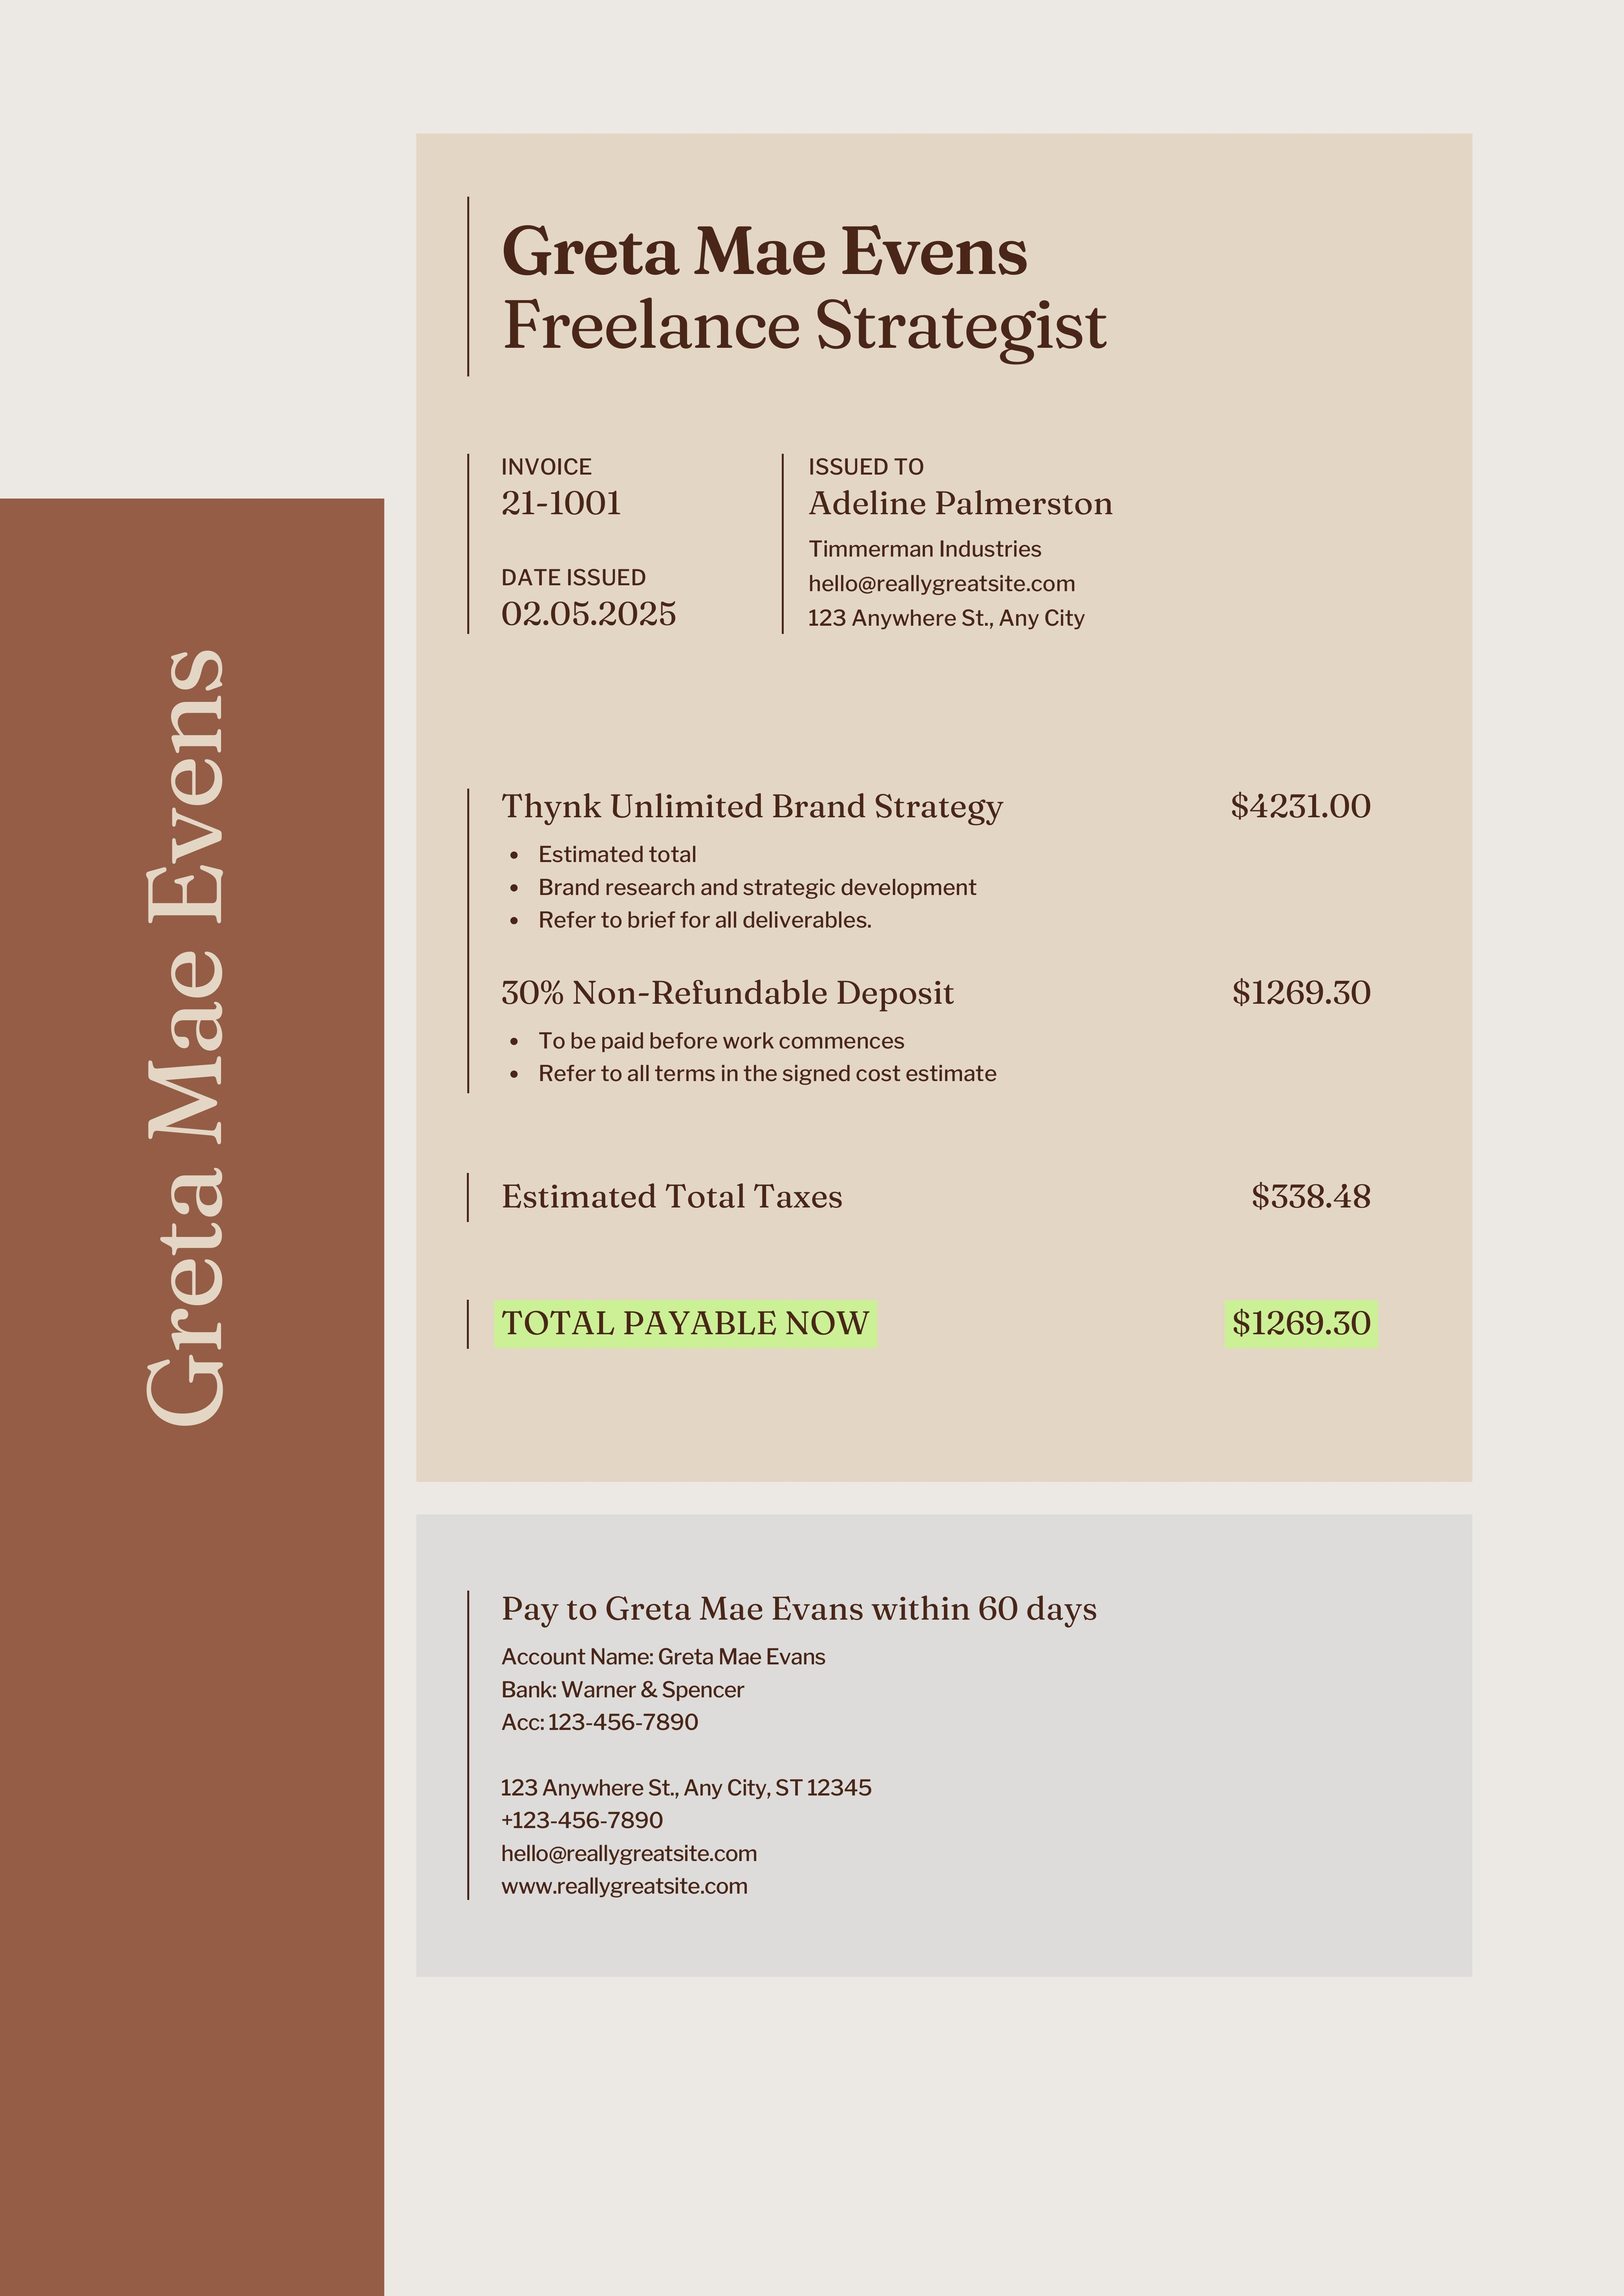ROI: (490, 773, 1388, 1093), (482, 1173, 1394, 1361), (492, 197, 1137, 390), (485, 1592, 1123, 1748), (798, 446, 1128, 639), (482, 446, 691, 646)
